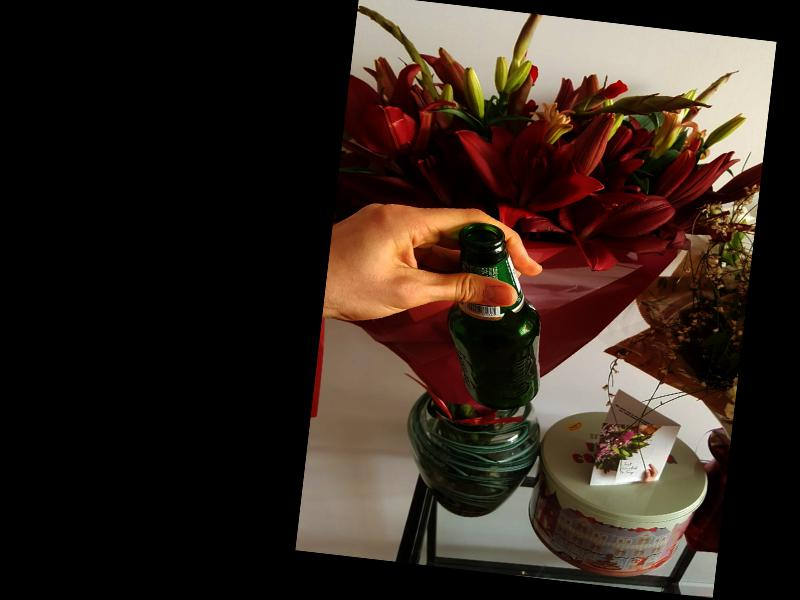Beer: (438, 221, 557, 413)
